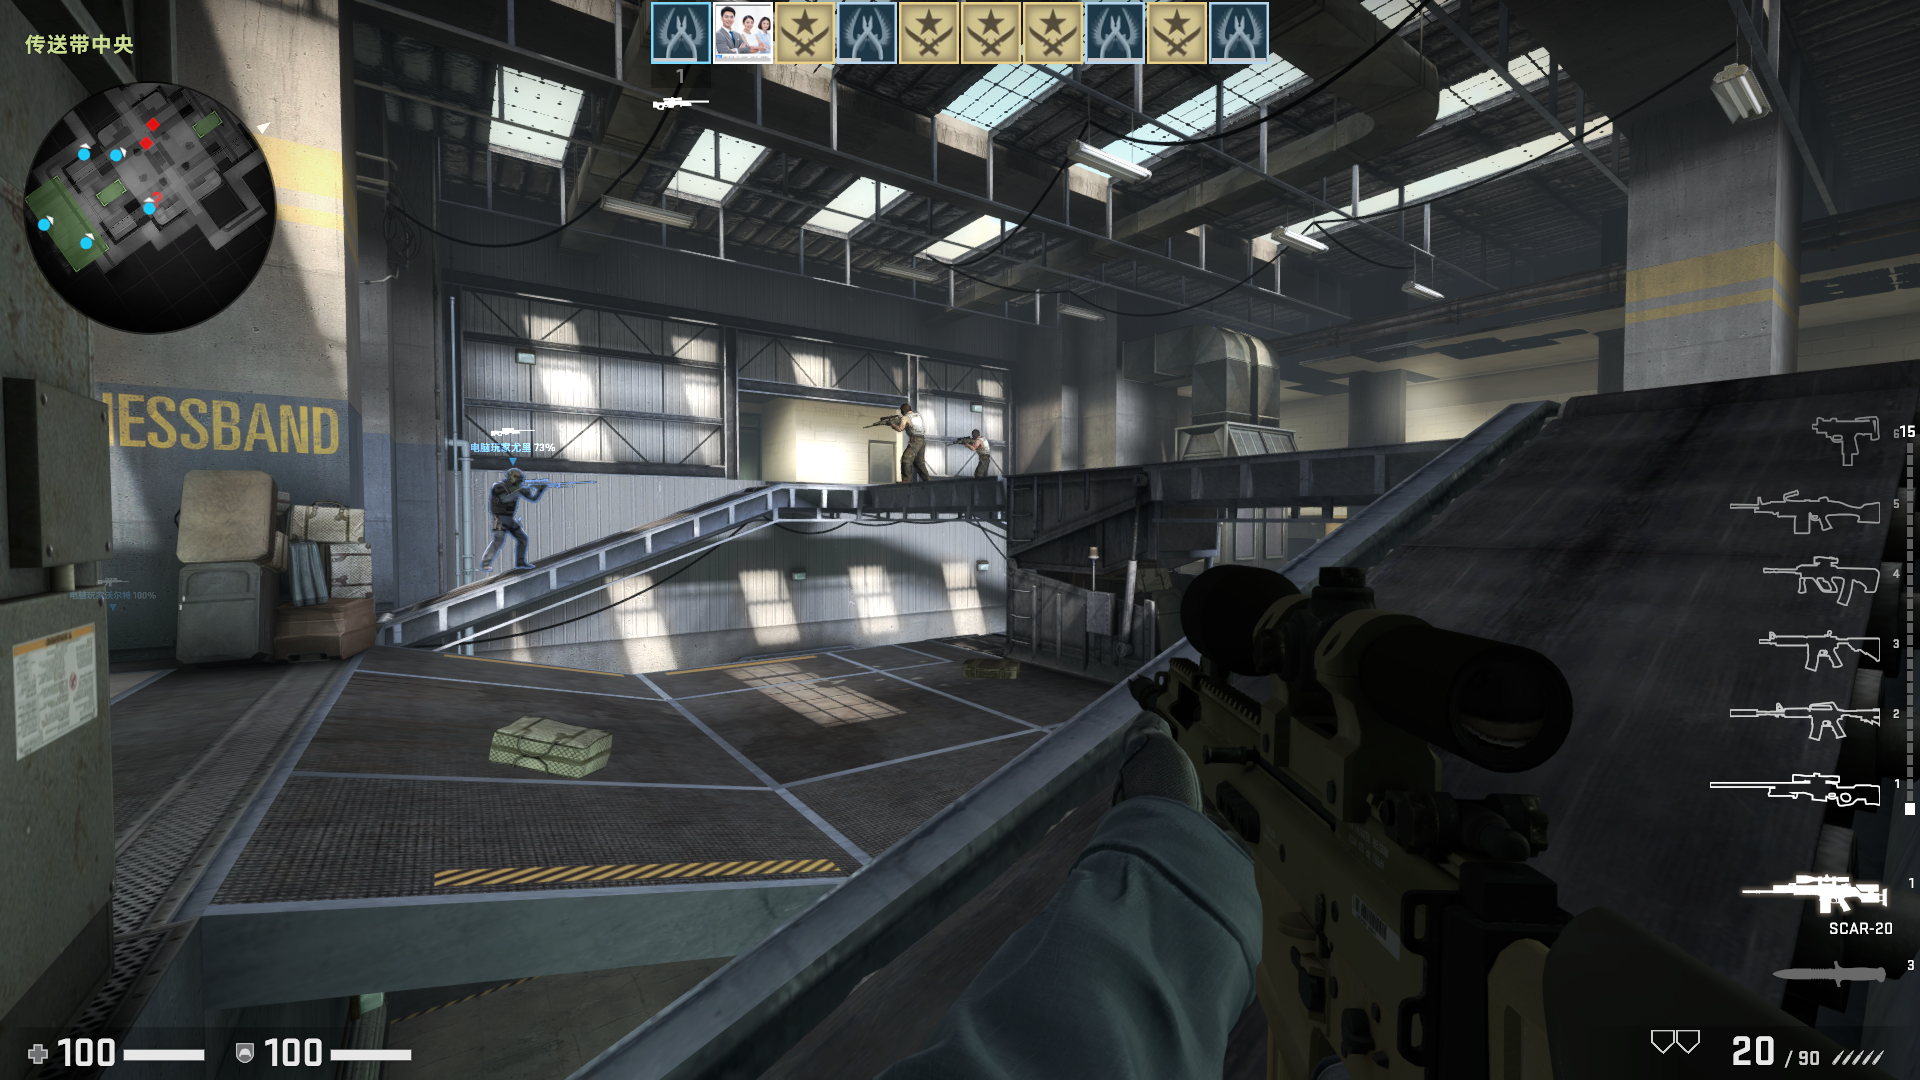person: (485, 468, 539, 569), (878, 401, 935, 486), (957, 430, 996, 478)
